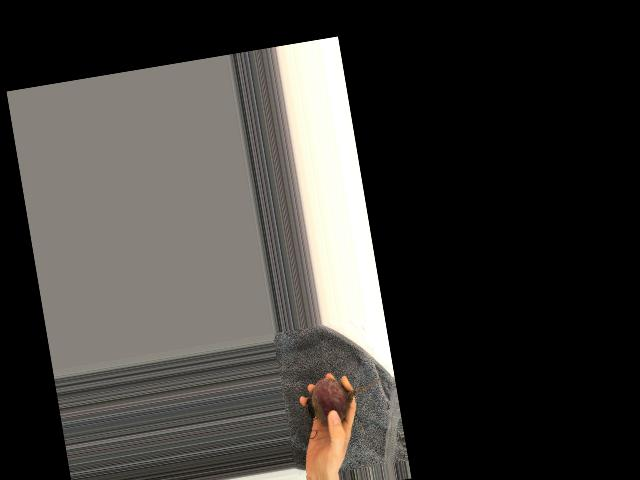beet: (303, 368, 387, 429)
